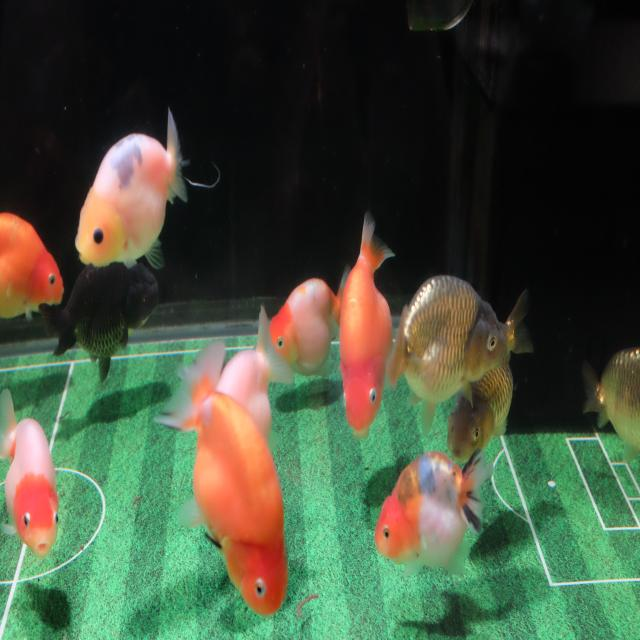Tilapia: (154, 339, 290, 618), (387, 269, 510, 439), (74, 106, 189, 270), (373, 444, 494, 580), (446, 286, 536, 462), (338, 205, 398, 442), (52, 264, 160, 383), (211, 306, 295, 452), (264, 261, 354, 378), (0, 388, 61, 560), (579, 345, 640, 469), (0, 211, 65, 321)
